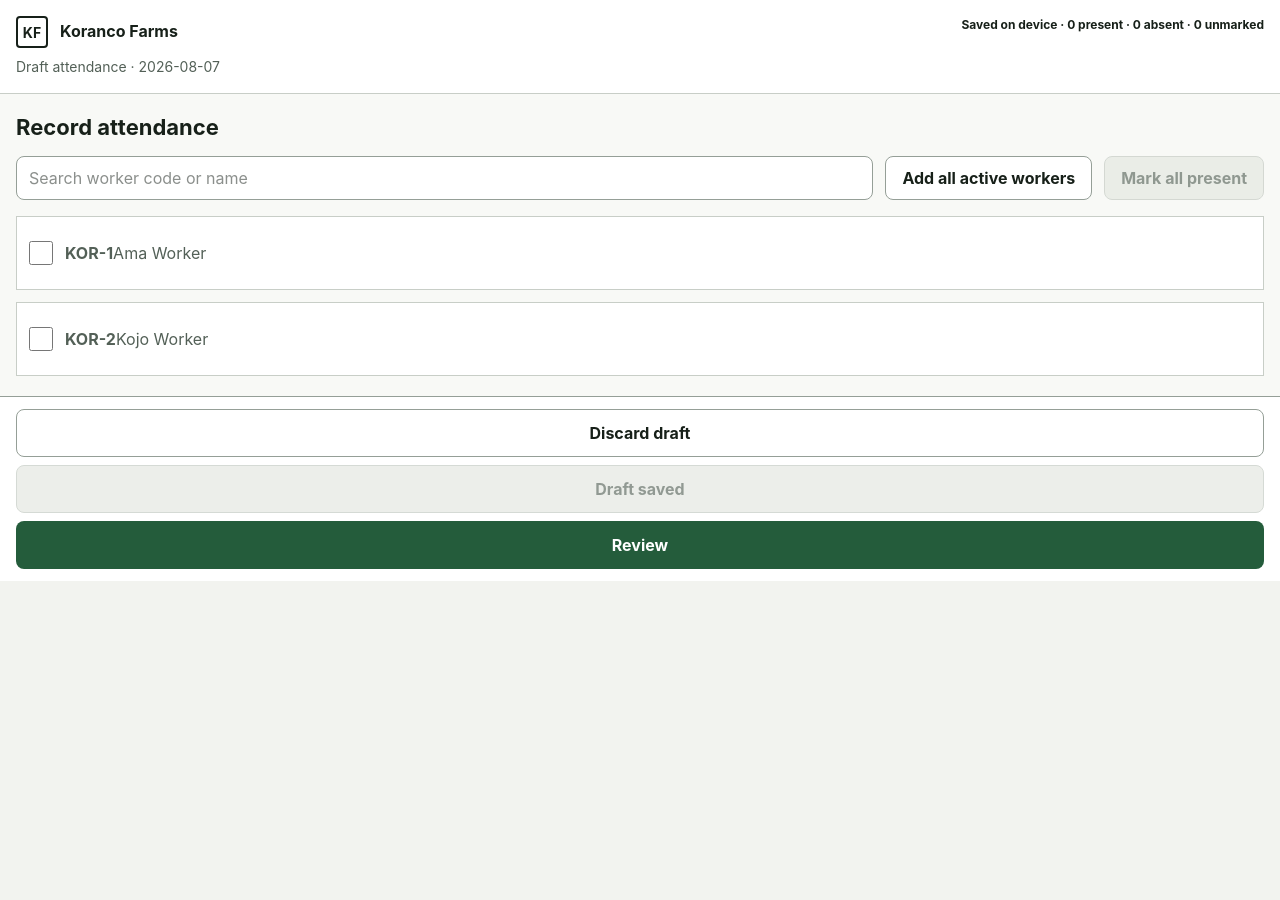
Scenario: AttendanceWorkspace draft roster › explicitly marks all present, updates counts, and permits an exception
The width and height of the screenshot is (1280, 900).
Expected: the text "Ama Worker" is shown, left=113, top=243, right=206, bottom=263
Click the button "Add all active workers" at (989, 178), box left=886, top=156, right=1092, bottom=200
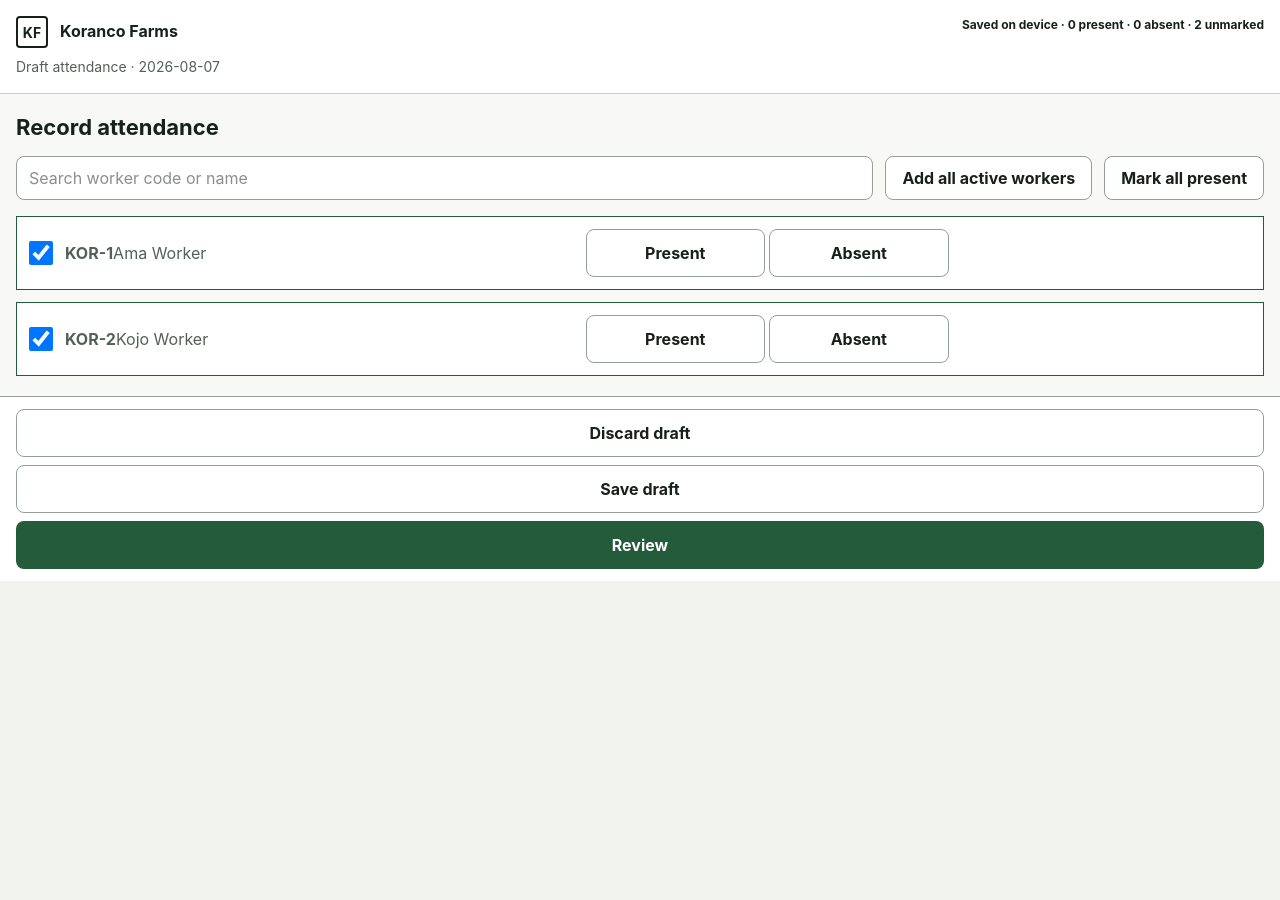
Now the text "Saved on device · 0 present · 0 absent · 2 unmarked" is shown, box left=962, top=16, right=1264, bottom=34
Click the button "Mark all present" at (1184, 178), box left=1104, top=156, right=1264, bottom=200
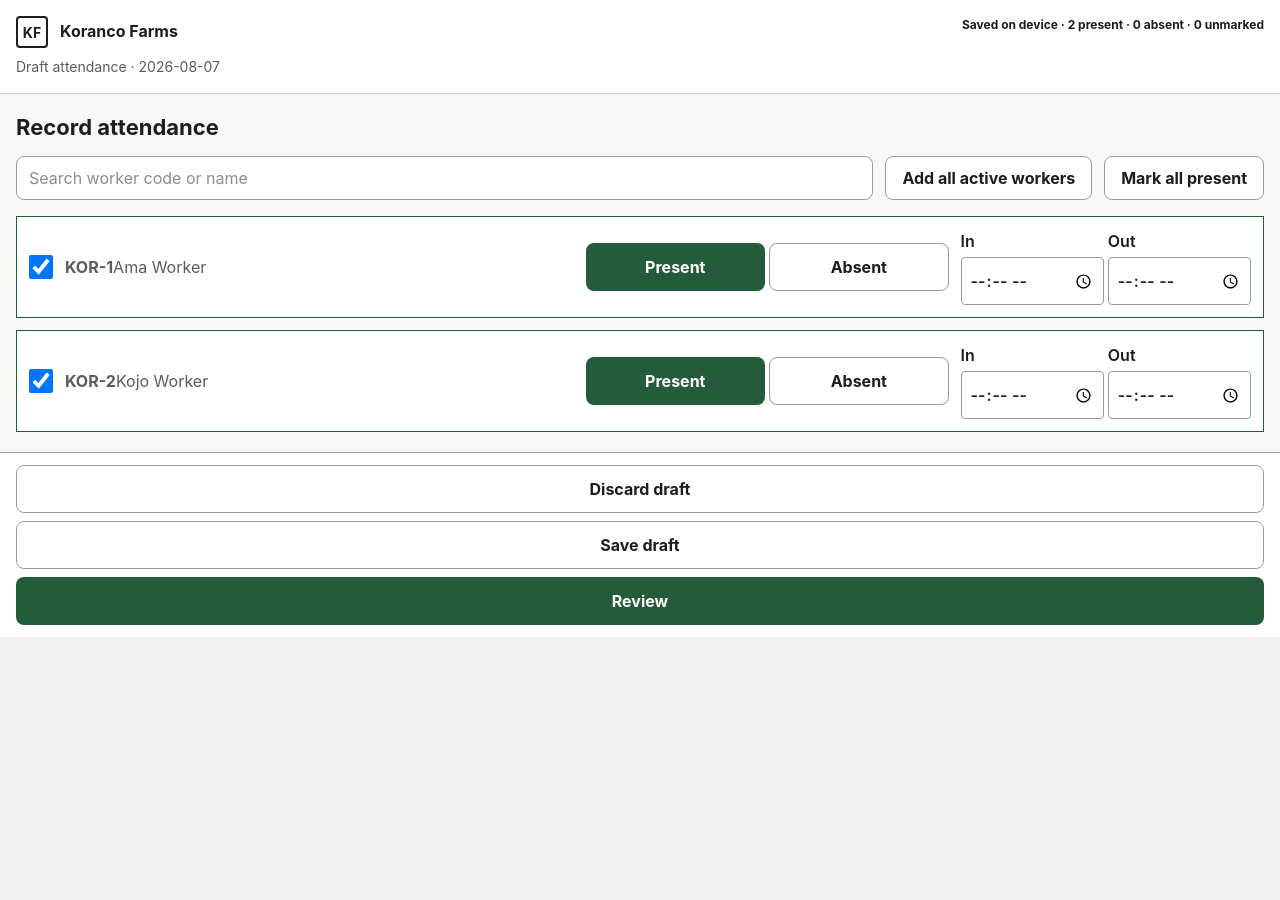
Now the text "Saved on device · 2 present · 0 absent · 0 unmarked" is shown, box left=962, top=16, right=1264, bottom=34
Click the button "Absent" in the row of "Kojo Worker" at (859, 381), box left=769, top=357, right=948, bottom=405
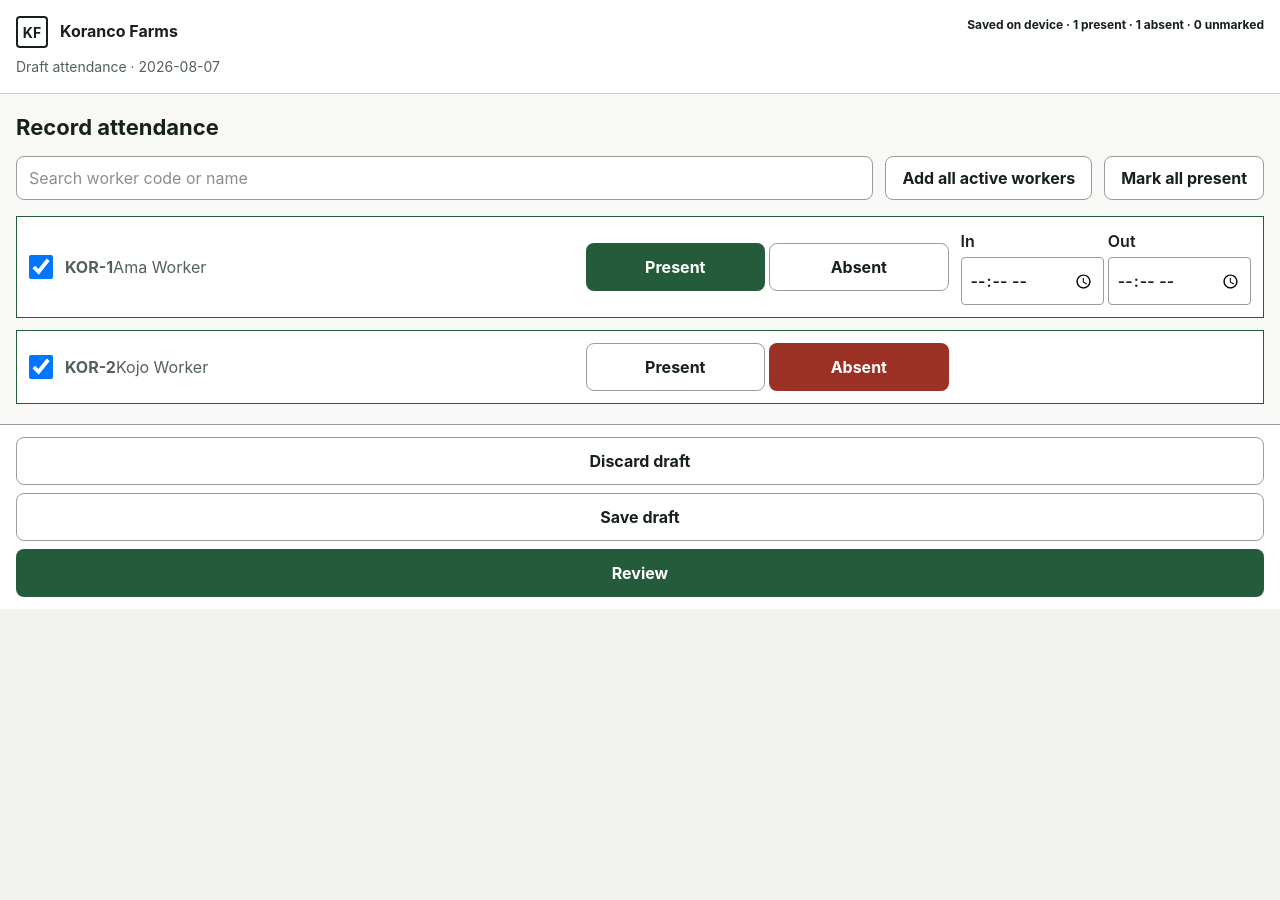
Now the text "Saved on device · 1 present · 1 absent · 0 unmarked" is shown, box left=967, top=16, right=1264, bottom=34
